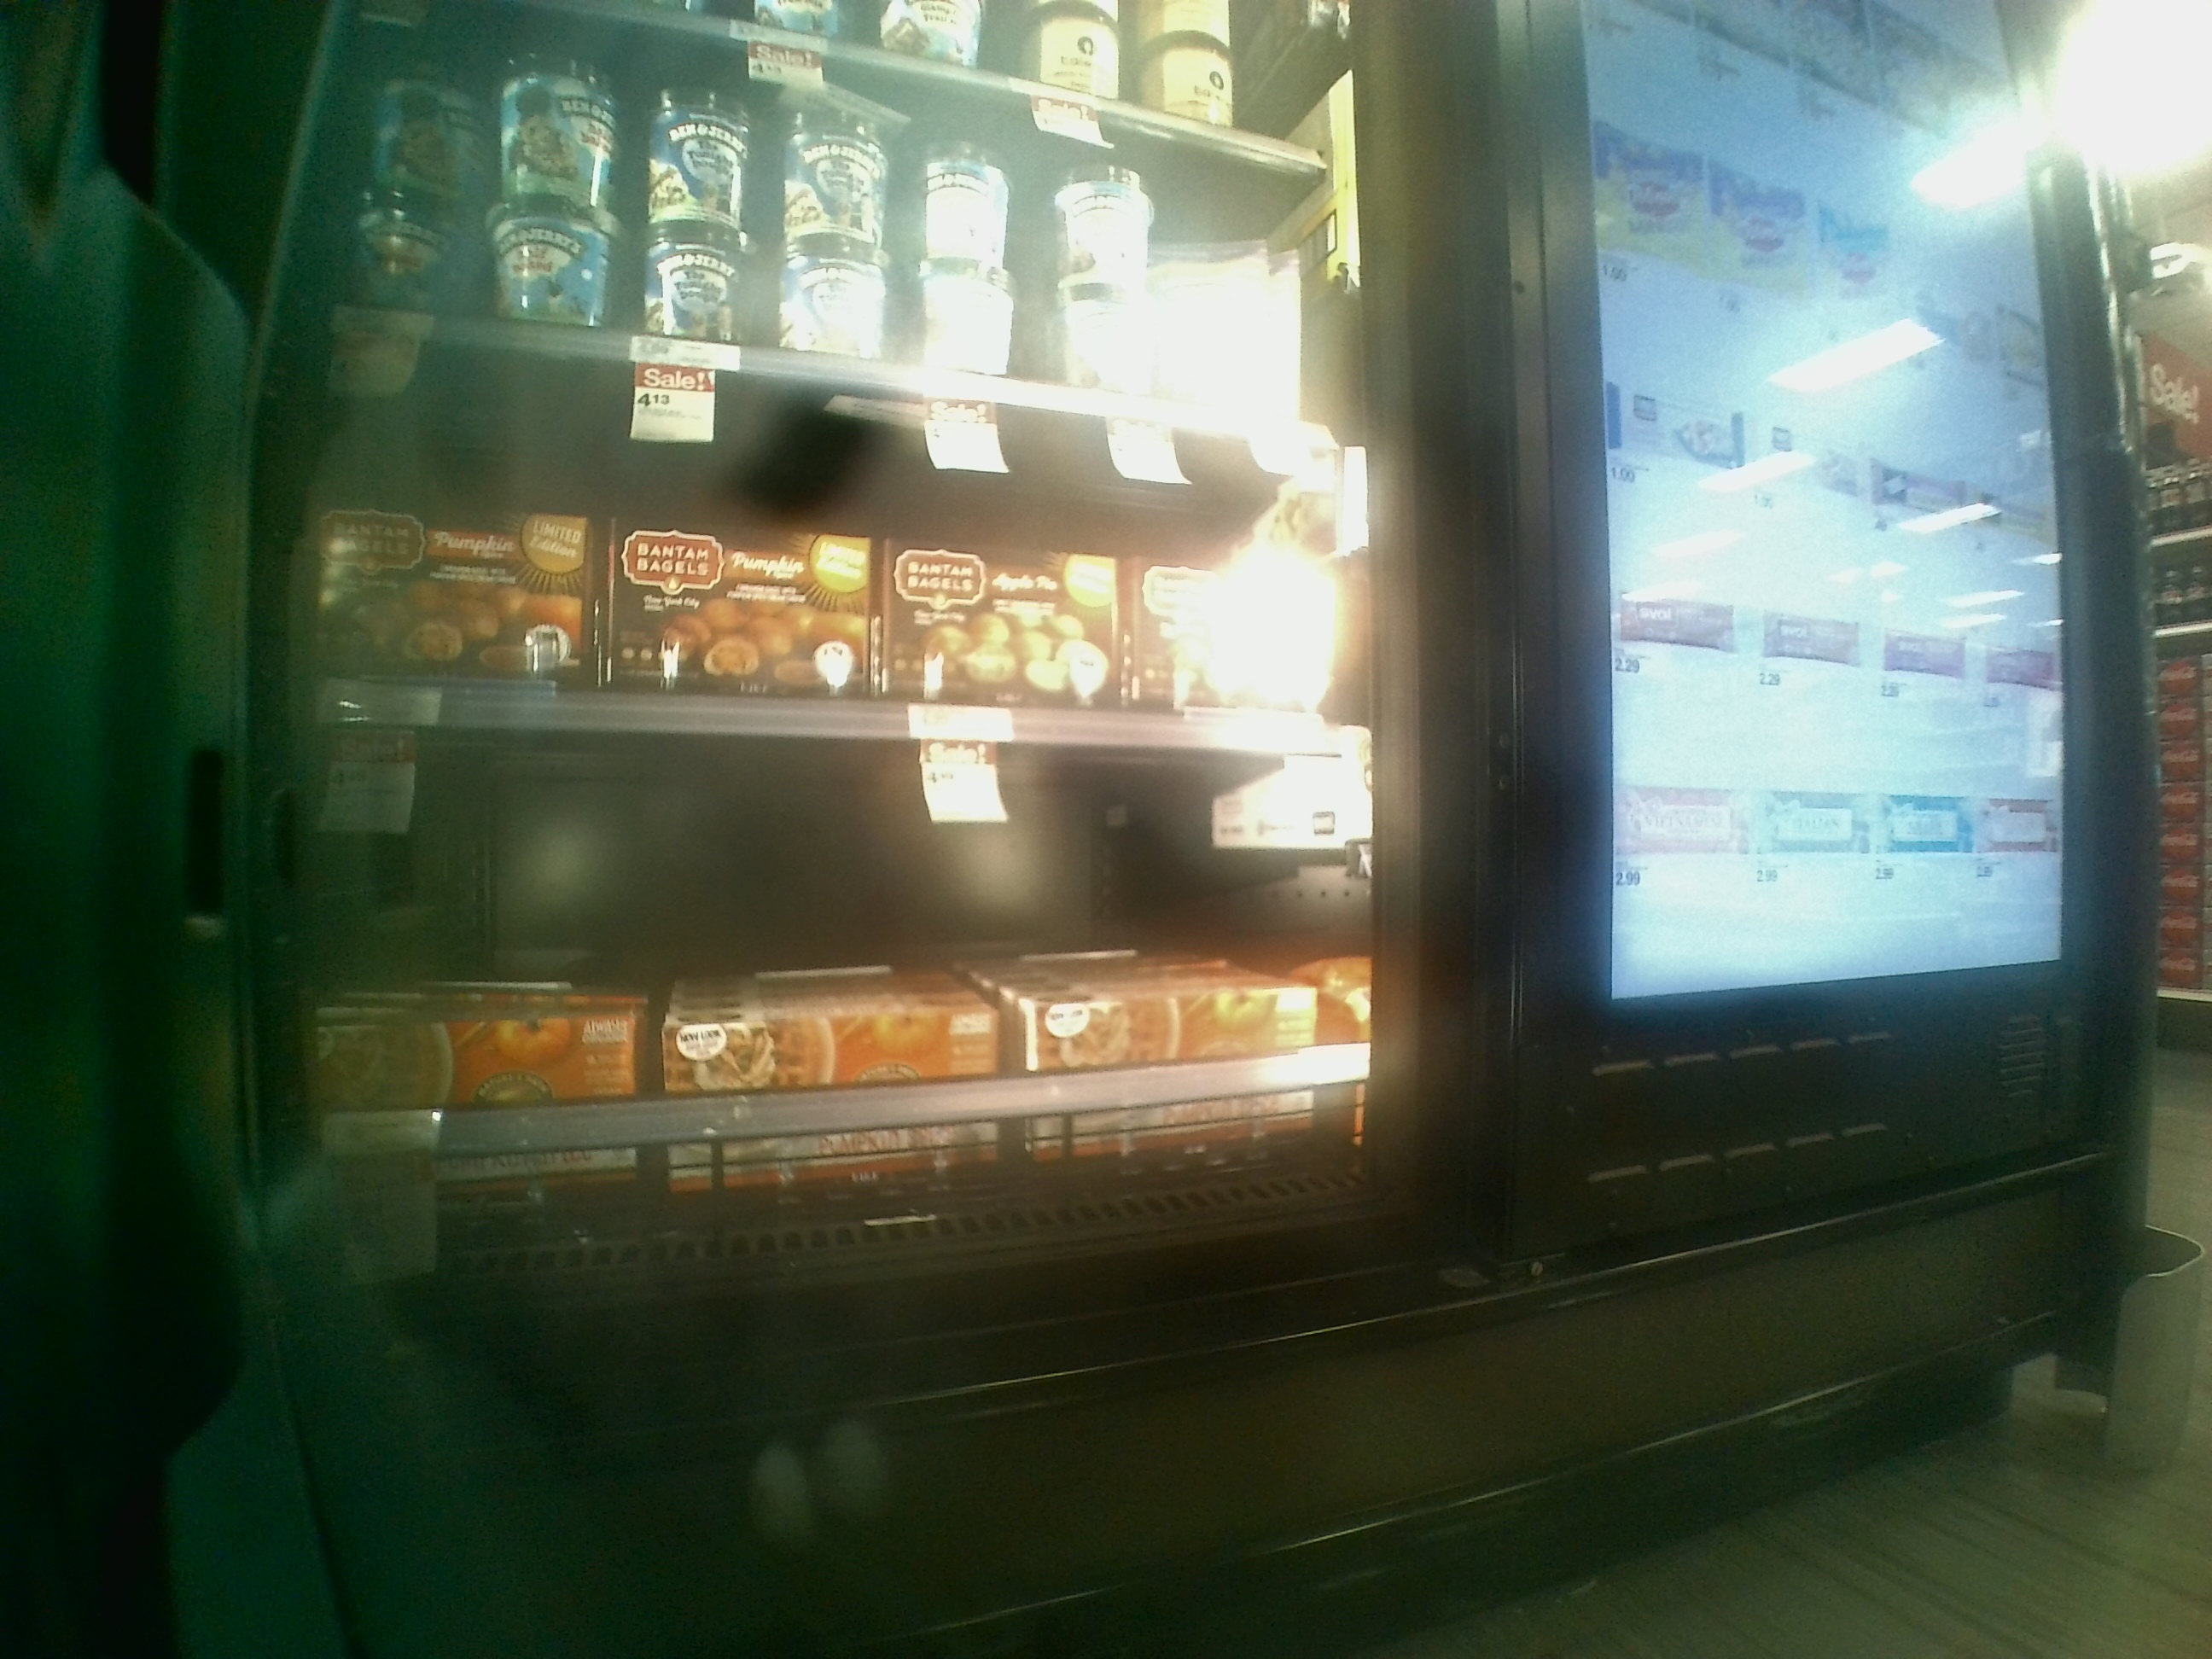shelf: (268, 718, 1404, 1260), (284, 338, 1388, 765)
